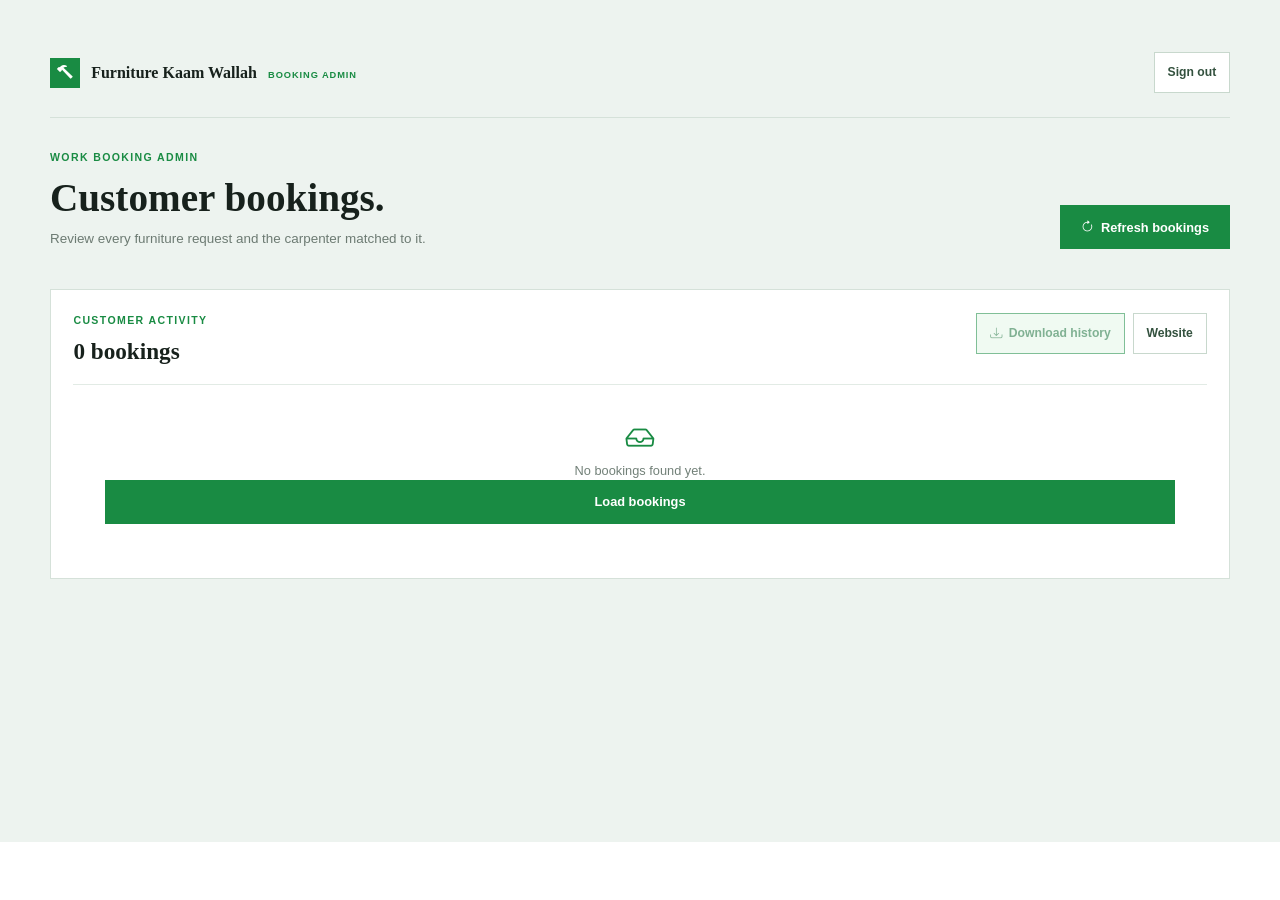
Work Booking Admin › shows newest booking first and deletes the selected database record
This screenshot has width=1280, height=900.
Step 1. Click the button "Refresh bookings" → (1145, 227), box [1060, 205, 1230, 249]
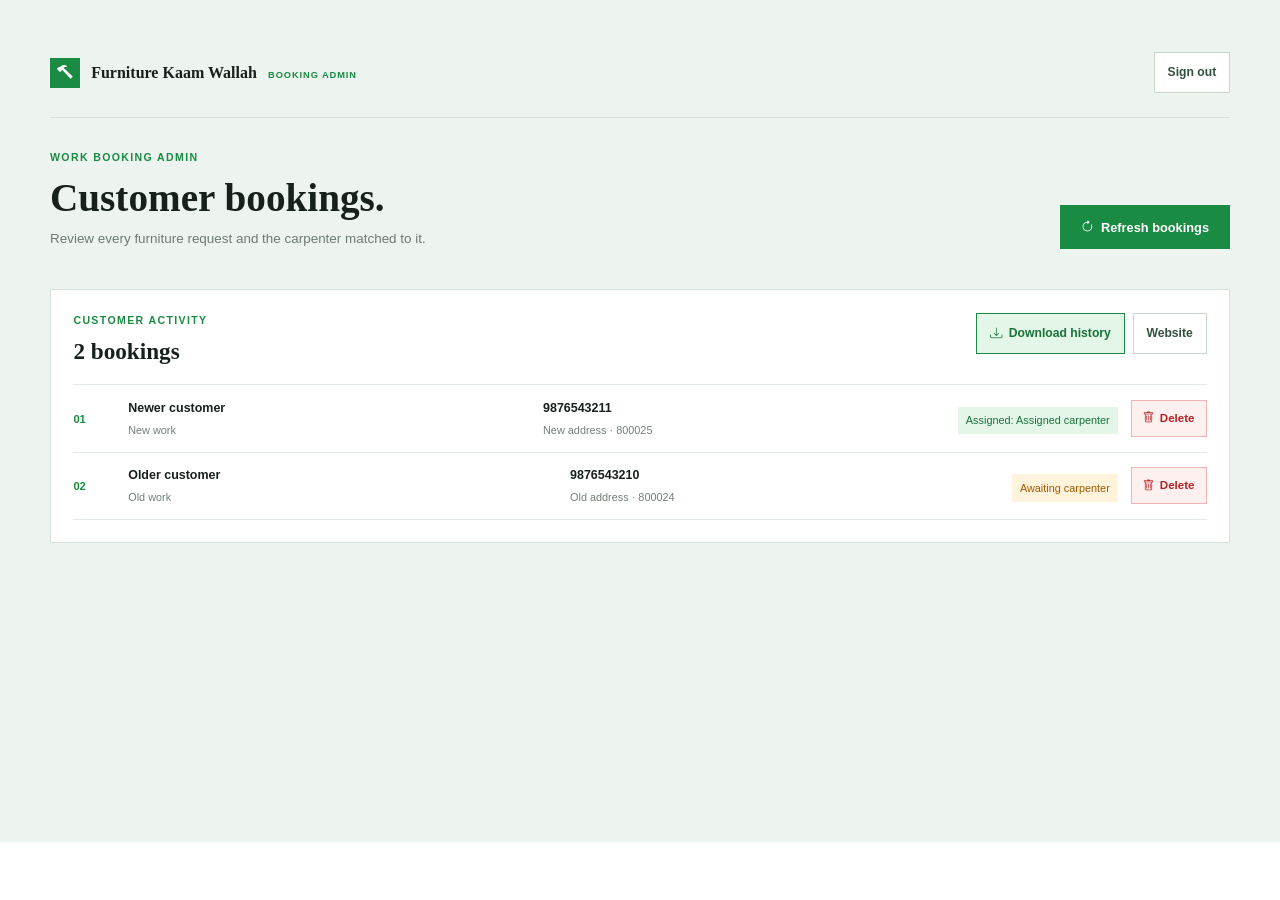
Result: the element with class "admin-history-row" shows "Newer customer" at [128, 401, 225, 415]
Result: the element with class "admin-history-row" shows "Older customer" at [128, 468, 220, 482]
Step 2. Click the button with aria-label "Delete booking for Newer customer" → (1169, 419), box [1130, 400, 1207, 437]
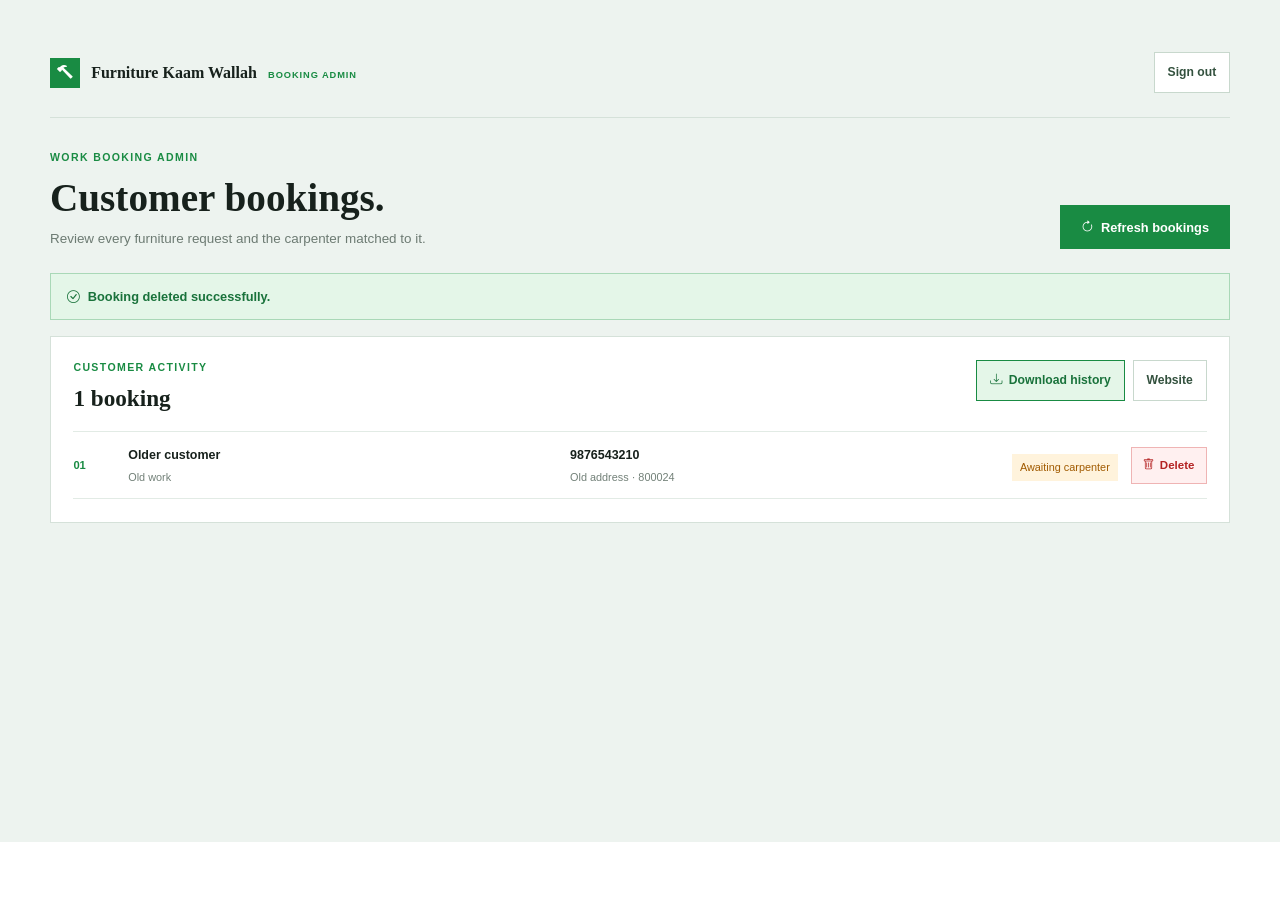
Result: the text "Older customer" is shown at [128, 448, 220, 462]
Result: the text "Newer customer" is gone
